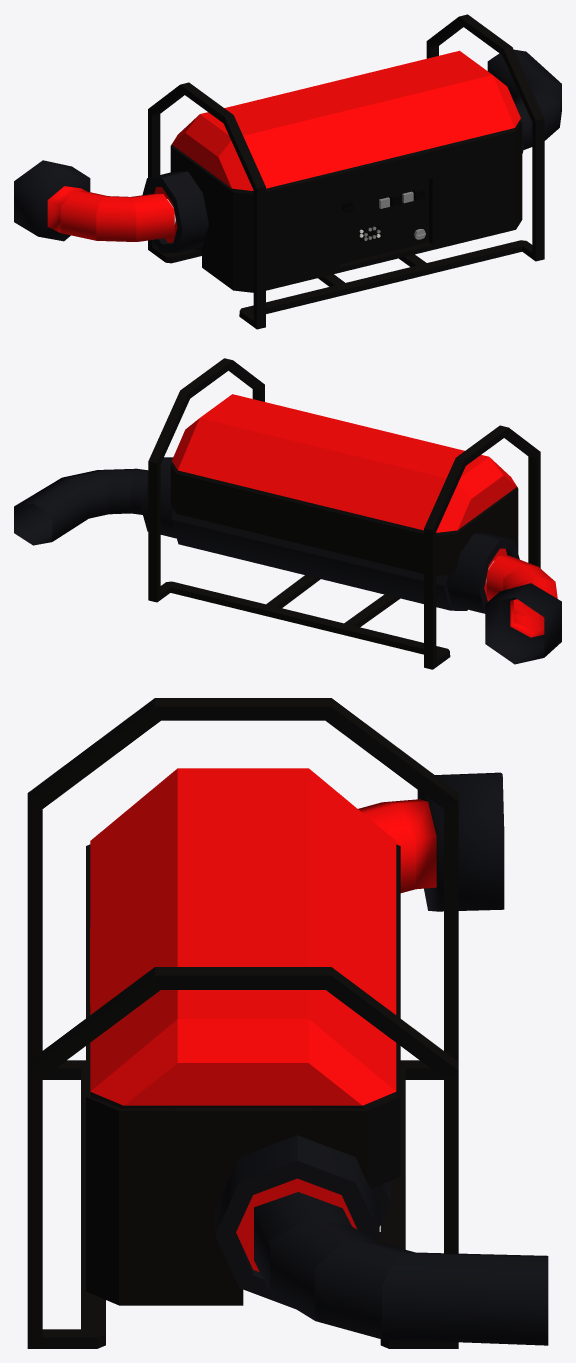
File: Gerador.fbx
3 views of the same model, one above another, from view 1: azimuth 30°, elevation 25°; view 2: azimuth 150°, elevation 25°; view 3: azimuth 270°, elevation 25° (orthographic). The views are drawn at different scales.
Parts seen in each view (by area): view 1: Gerador, FioGerador, Gerador2; view 2: Gerador, FioGerador, Gerador2; view 3: Gerador, FioGerador, Gerador2.
Part boxes in pixels (x1,y1,x2,y2): Gerador: [148, 14, 544, 329]; FioGerador: [14, 49, 561, 241]; Gerador2: [142, 138, 524, 253]; Gerador: [148, 358, 540, 669]; FioGerador: [14, 468, 561, 664]; Gerador2: [141, 457, 519, 613]; Gerador: [27, 698, 458, 1348]; FioGerador: [254, 772, 548, 1345]; Gerador2: [215, 1135, 390, 1308].
Bounding box in the file's own units: 130 × 44.69 × 56.47.
